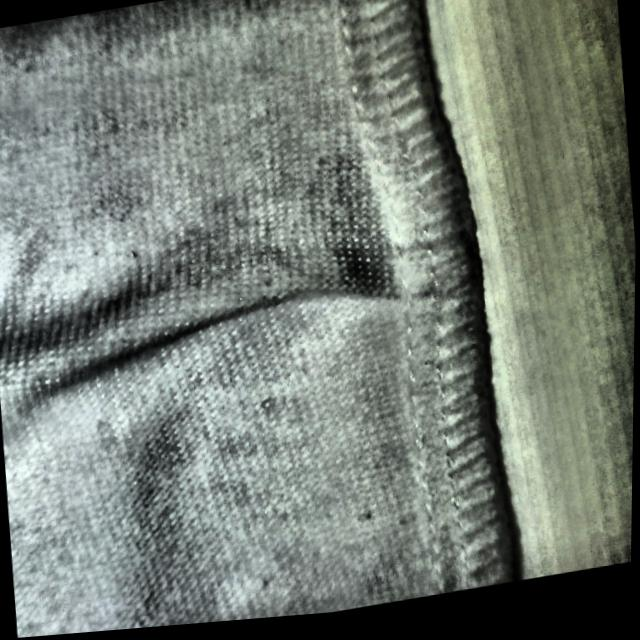seam: (149, 209, 482, 378)
